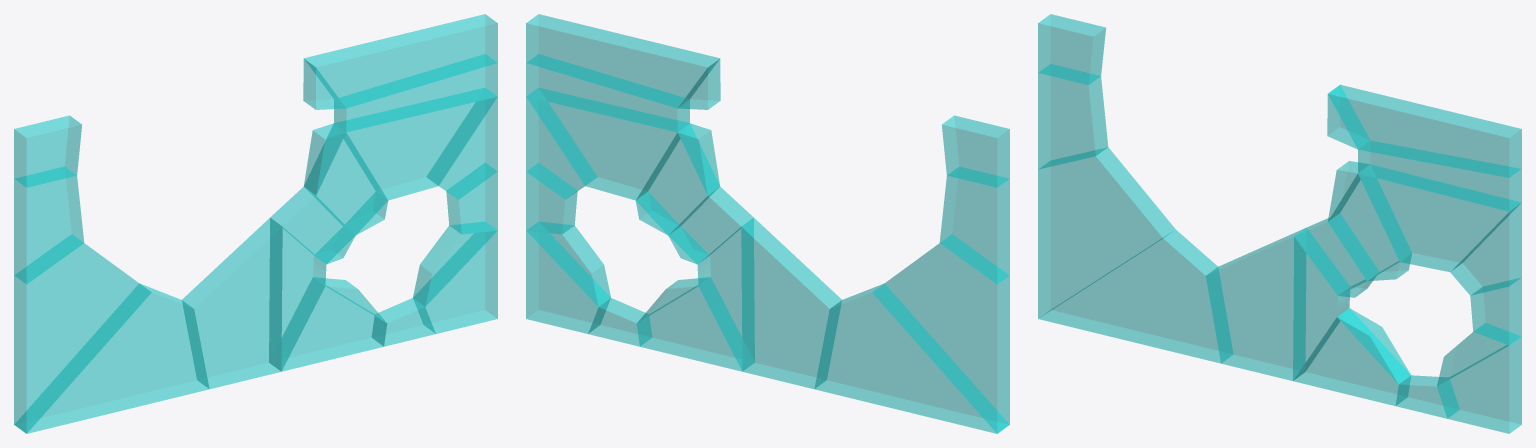
Rendered from SM_Bld_Wall_L_Damaged_Double_01_Alt_01_Collision_01.fbx.
3 renders of one model, left to right at view 1: azimuth 30°, elevation 25°; view 2: azimuth 150°, elevation 25°; view 3: azimuth 330°, elevation 25°, orthographic.
Visible parts, largest first — view 1: SM_Bld_Wall_L_Damaged_Double_01_Alt_01_Collision_01; view 2: SM_Bld_Wall_L_Damaged_Double_01_Alt_01_Collision_01; view 3: SM_Bld_Wall_L_Damaged_Double_01_Alt_01_Collision_01.
Part boxes in pixels (x1,y1,x2,y2): SM_Bld_Wall_L_Damaged_Double_01_Alt_01_Collision_01: (14, 14, 497, 433); SM_Bld_Wall_L_Damaged_Double_01_Alt_01_Collision_01: (526, 14, 1009, 433); SM_Bld_Wall_L_Damaged_Double_01_Alt_01_Collision_01: (1038, 14, 1521, 433).
Size of the model in its own units: 1000 by 600 by 46.
